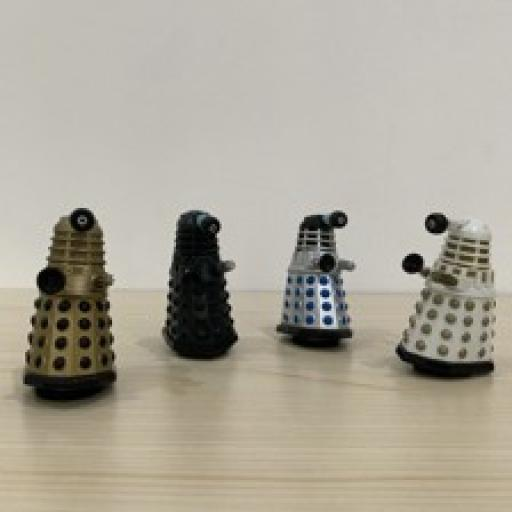dalek: (389, 202, 501, 385), (26, 199, 122, 410), (273, 207, 366, 350), (164, 205, 239, 362)
